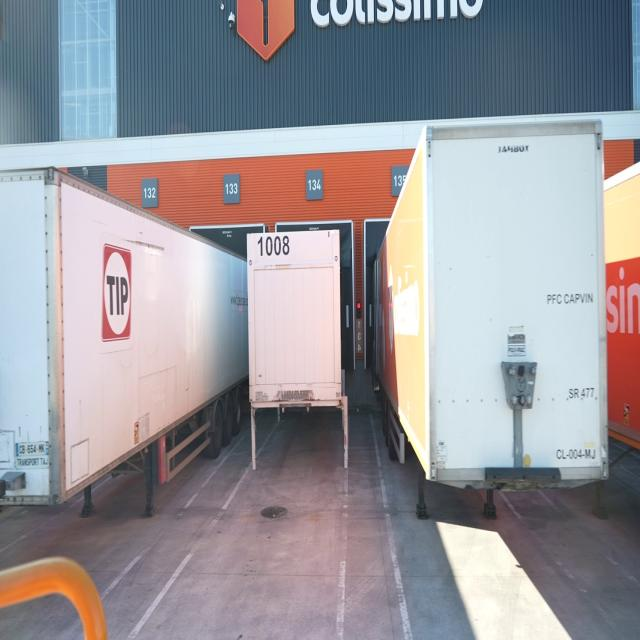Code: (254, 233, 298, 257)
